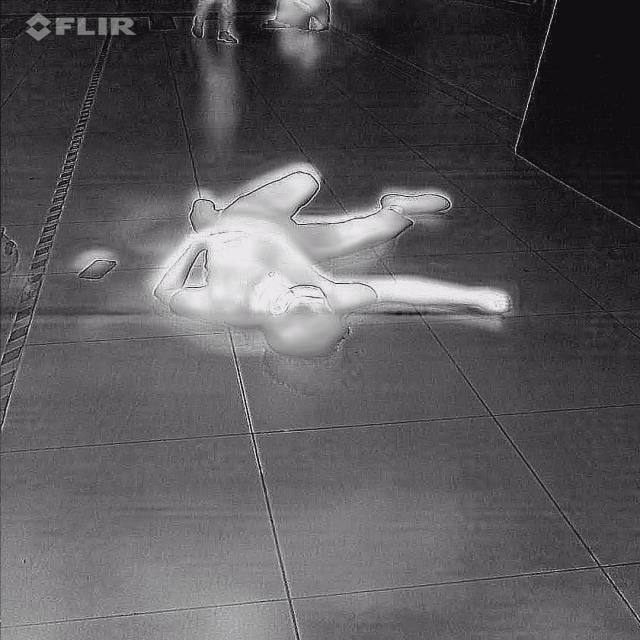Victim: (134, 152, 547, 362), (252, 0, 334, 35)
